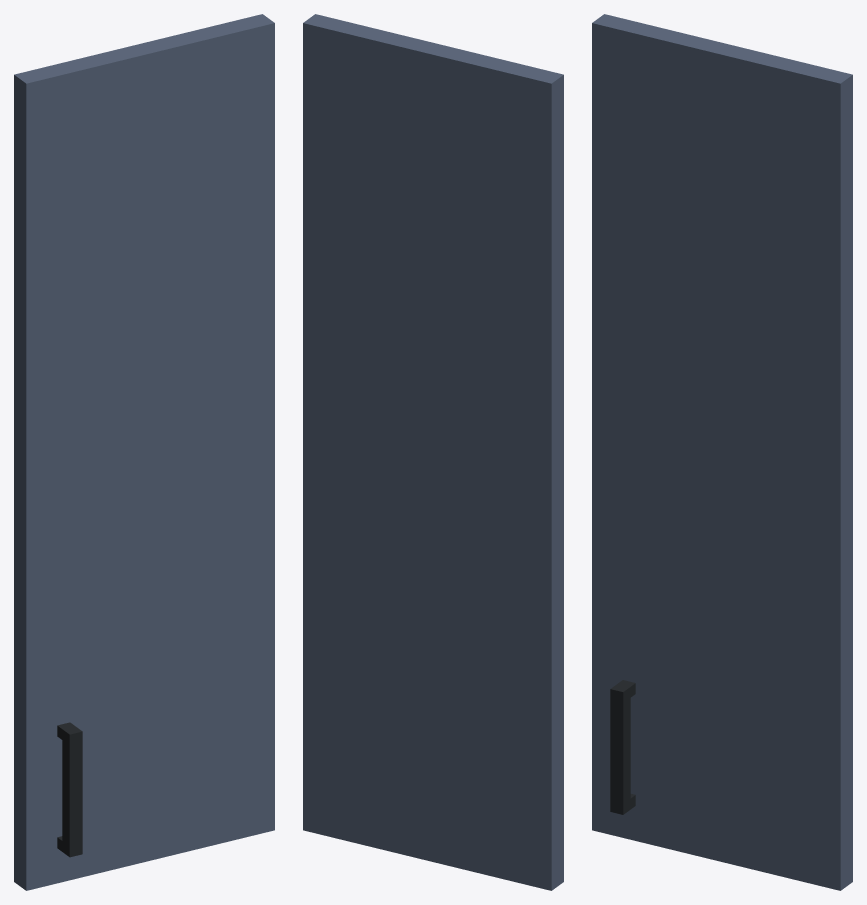
Rendered from Door1_C4_13.fbx.
3 renders of one model, left to right at view 1: azimuth 30°, elevation 25°; view 2: azimuth 150°, elevation 25°; view 3: azimuth 330°, elevation 25°, orthographic.
Parts seen in each view (by area): view 1: Door1_C4_13; view 2: Door1_C4_13; view 3: Door1_C4_13.
Part boxes in pixels (box(x1,y1,x2,y2)): Door1_C4_13: box(14, 14, 274, 890); Door1_C4_13: box(303, 14, 563, 890); Door1_C4_13: box(592, 14, 852, 890).
Size of the model in its own units: 29 by 90 by 5.03.
